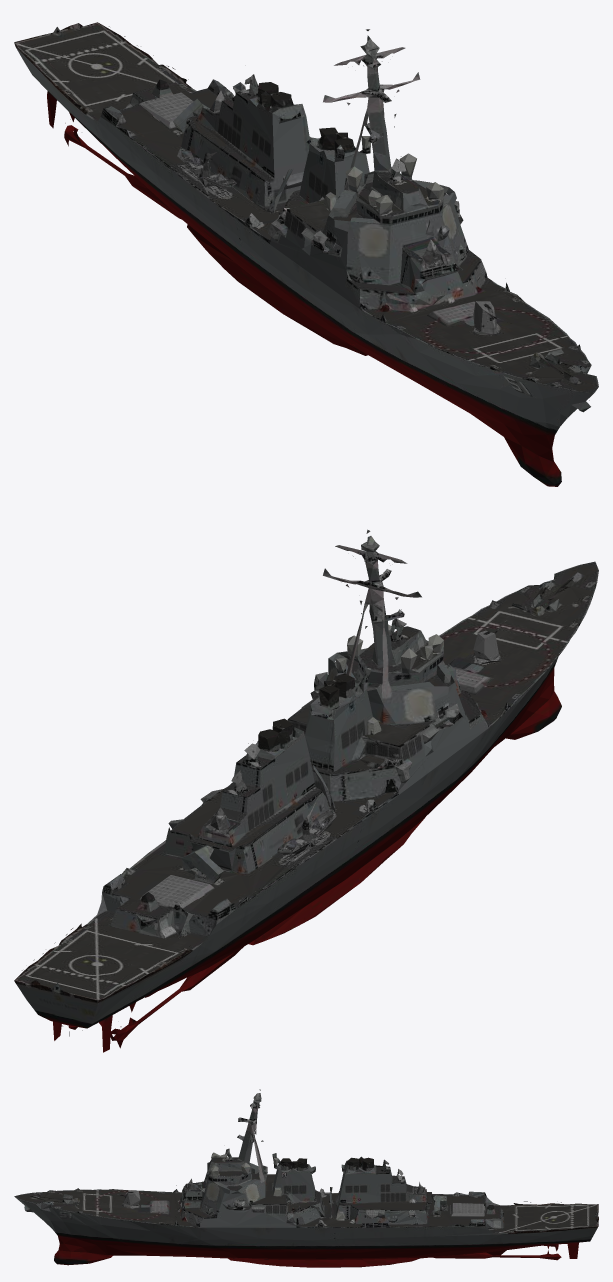
The model's file is realistic-by.76880fe3d732.missile-cruiser.glb.
The picture shows the model from 3 angles, top to bottom: view 1: azimuth 30°, elevation 25°; view 2: azimuth 150°, elevation 25°; view 3: azimuth 270°, elevation 25°; orthographic projection. The views are drawn at different scales.
Visible parts, largest first — view 1: missile-cruiser; view 2: missile-cruiser; view 3: missile-cruiser.
Part boxes in pixels (x1,y1,x2,y2): missile-cruiser: (14,22,598,486); missile-cruiser: (14,529,598,1052); missile-cruiser: (14,1089,598,1267).
Size of the model in its own units: 23.71 by 53.43 by 154.
1 material, 1 textured.
